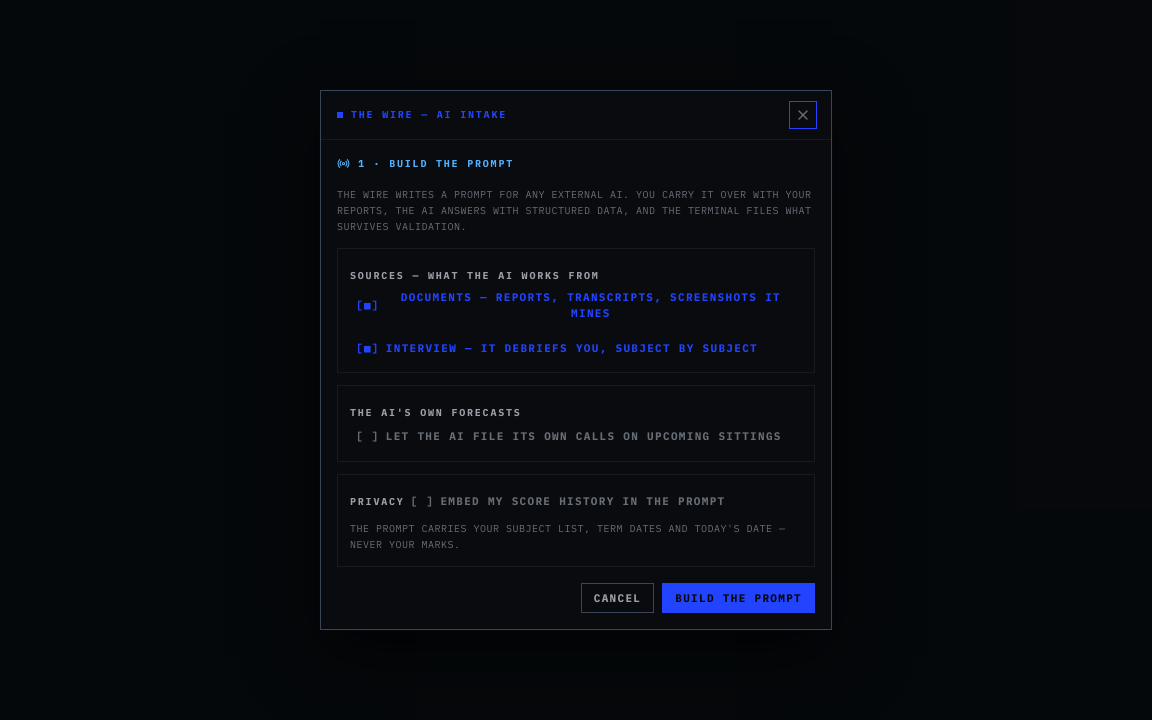
the wire modal, end to end › refuses to build with no source selected
Click the switch labelled "[■] Documents — reports, transcripts, screenshots it mines": (576, 305) [350,285,802,326]
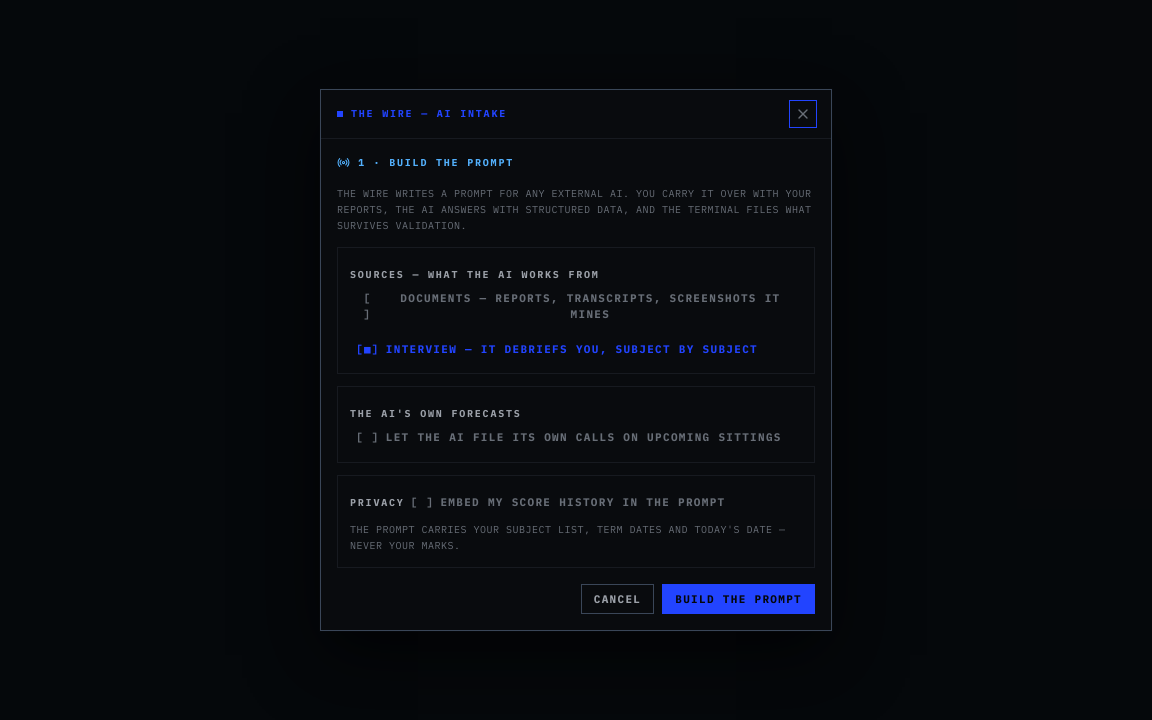
Click the switch labelled "[■] Interview — it debriefs you, subject by subject": (557, 349) [350,337,764,361]
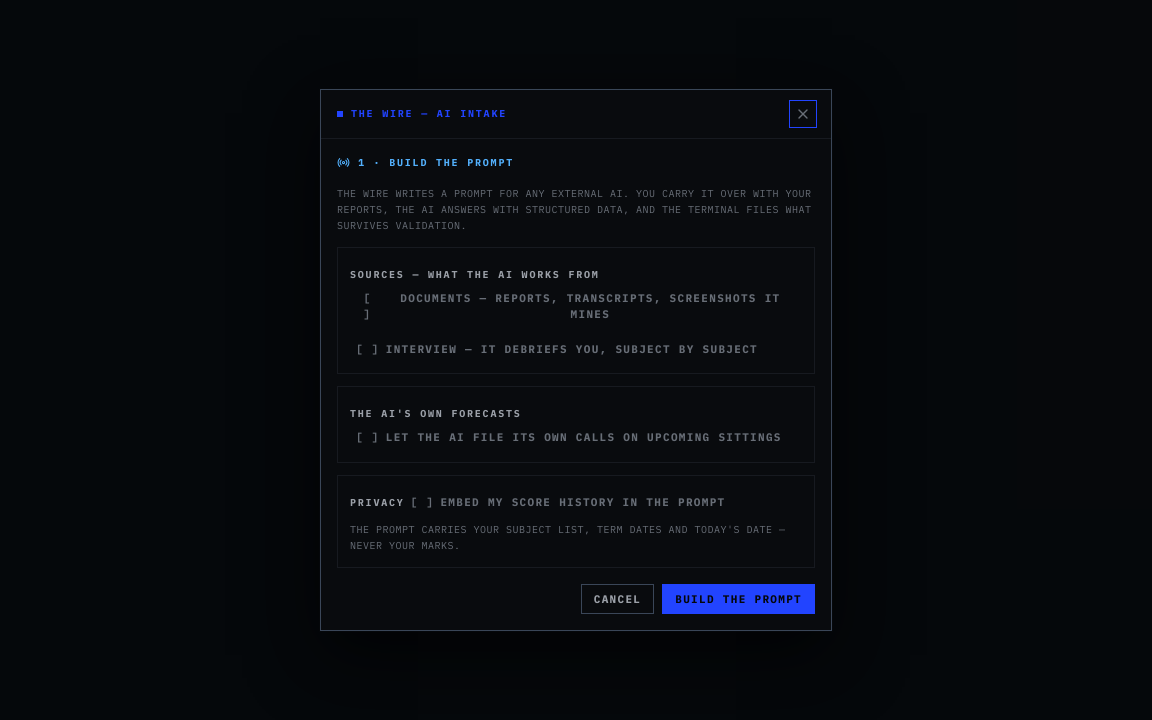
Click the button "Build the prompt": (739, 599) [662,584,815,614]
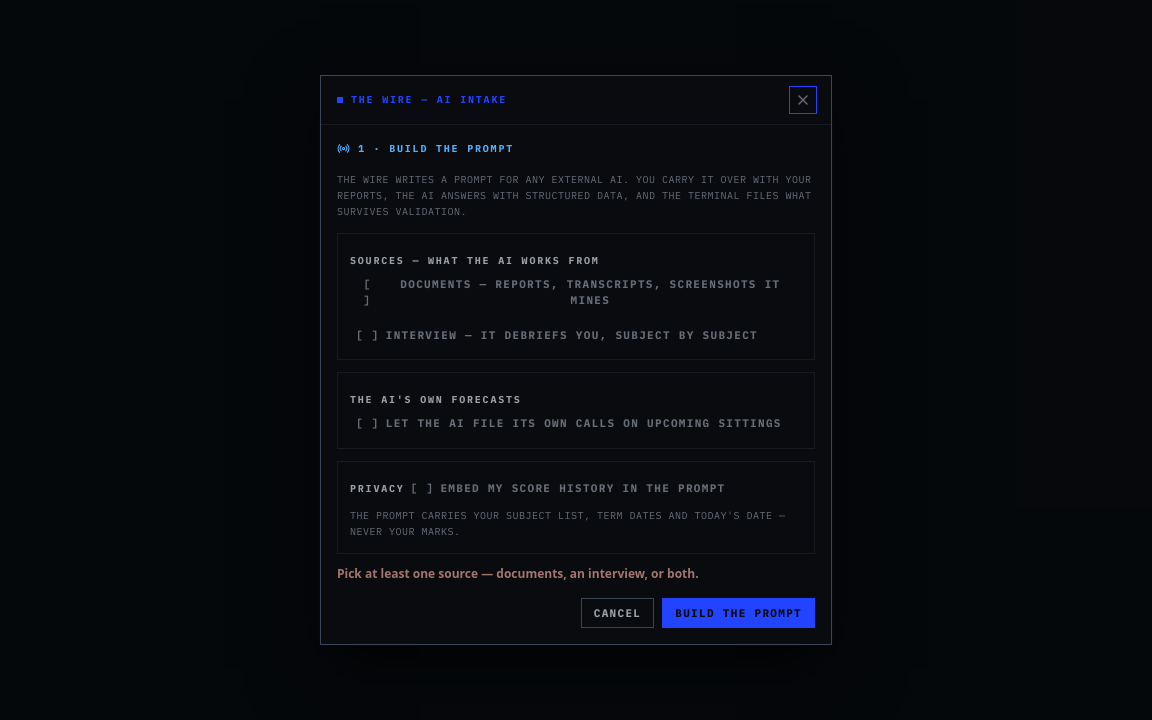
Expected: the text "at least one source" is shown, [337,565,699,582]
